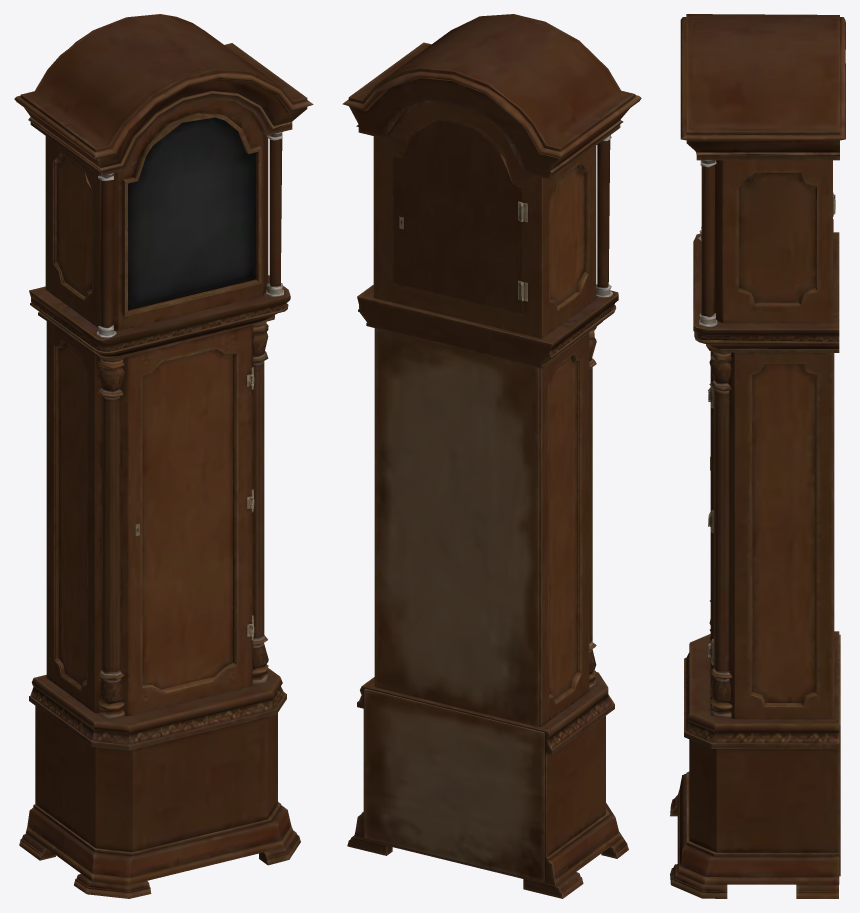
The model's file is vintage_grandfather_clock_01.glb.
The picture shows the model from 3 angles, left to right: view 1: azimuth 30°, elevation 25°; view 2: azimuth 150°, elevation 25°; view 3: azimuth 270°, elevation 25°; orthographic projection. The views are drawn at different scales.
Parts seen in each view (by area): view 1: vintage_grandfather_clock_01_Body; view 2: vintage_grandfather_clock_01_Body; view 3: vintage_grandfather_clock_01_Body.
Boxes of the visible parts, box(x1,y1,x2,y2) form: vintage_grandfather_clock_01_Body: box(14, 14, 313, 898); vintage_grandfather_clock_01_Body: box(342, 14, 641, 898); vintage_grandfather_clock_01_Body: box(670, 14, 845, 898).
Size of the model in its own units: 0.6255 by 2.19 by 0.4265.
2 materials, 2 textured.
